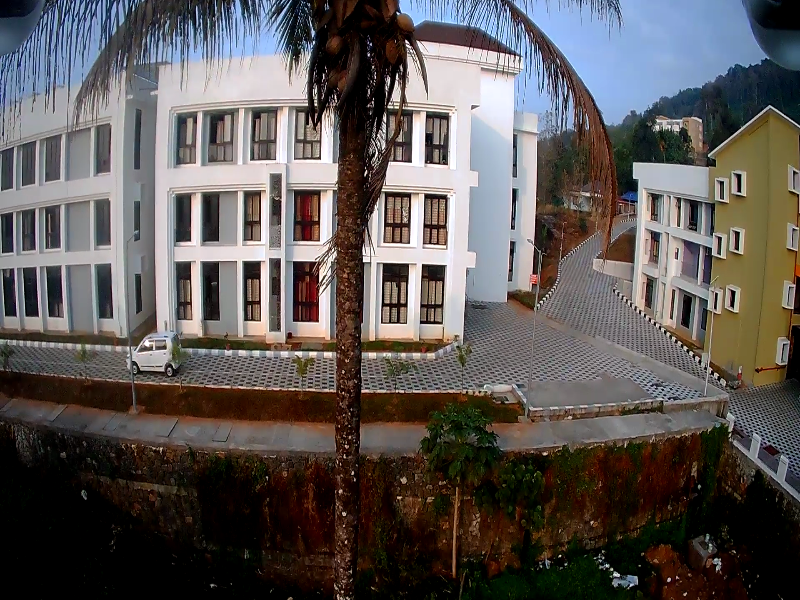coconut: (395, 12, 415, 39), (380, 37, 398, 61), (325, 36, 346, 56), (336, 73, 350, 98)
